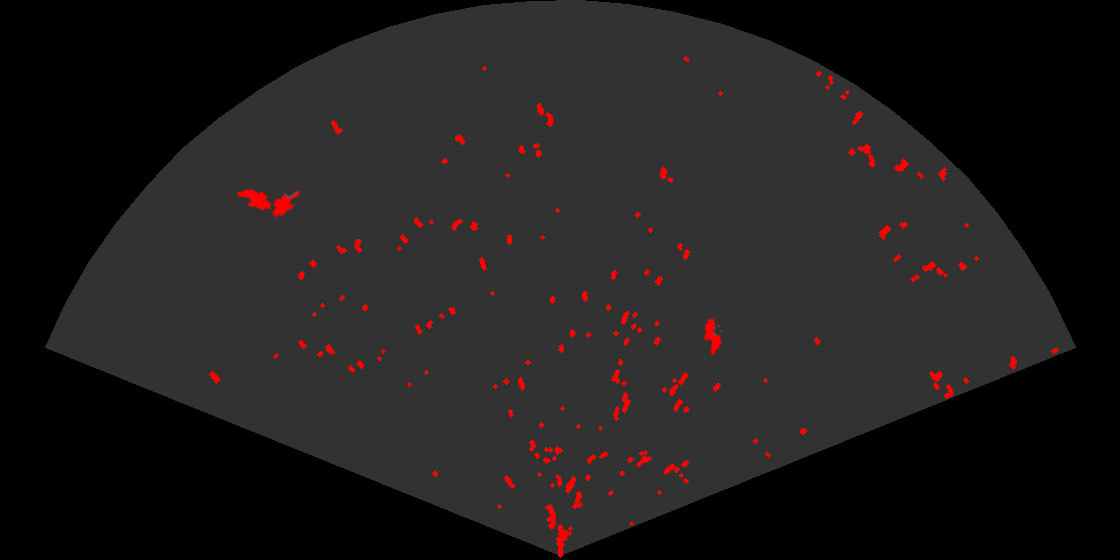AUV: (270, 189, 302, 219), (235, 187, 273, 212), (703, 316, 724, 357)
